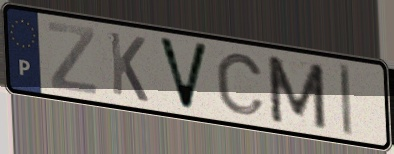C: (213, 51, 268, 117)
I: (336, 61, 355, 139)
K: (107, 29, 151, 105)
M: (263, 53, 330, 133)
V: (154, 34, 212, 115)
Z: (45, 19, 98, 97)
